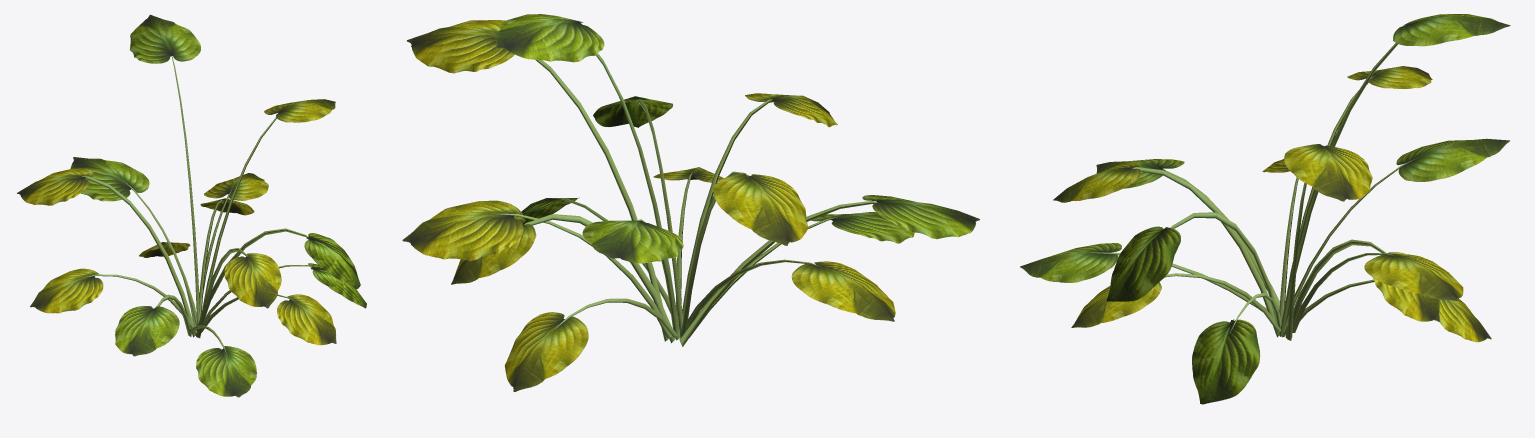
File: SM_Evergreen.fbx
3 renders of one model, left to right at view 1: azimuth 30°, elevation 25°; view 2: azimuth 150°, elevation 25°; view 3: azimuth 270°, elevation 25°, orthographic. The views are drawn at different scales.
Visible parts, largest first — view 1: SM_Evergreen_LOD0; view 2: SM_Evergreen_LOD0; view 3: SM_Evergreen_LOD0.
Part boxes in pixels (x1,y1,x2,y2): SM_Evergreen_LOD0: [17, 14, 366, 397]; SM_Evergreen_LOD0: [402, 14, 979, 391]; SM_Evergreen_LOD0: [1020, 14, 1510, 404].
Size of the model in its own units: 137 by 138 by 106.
2 materials, 2 textured.
